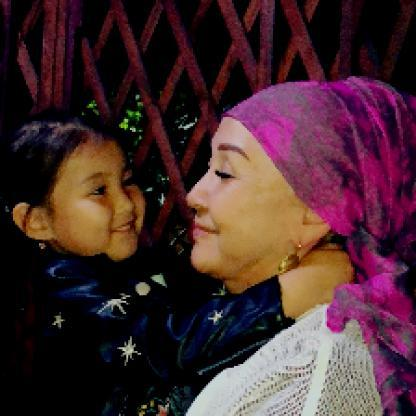child: (3, 107, 354, 416)
